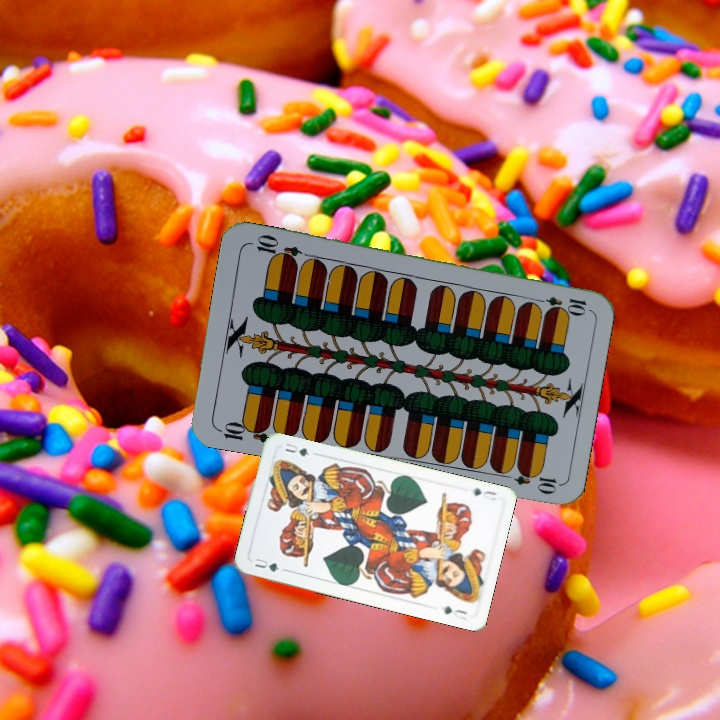E10: (213, 417, 272, 445), (530, 292, 589, 315)
GU: (251, 553, 288, 574), (469, 484, 499, 503)
